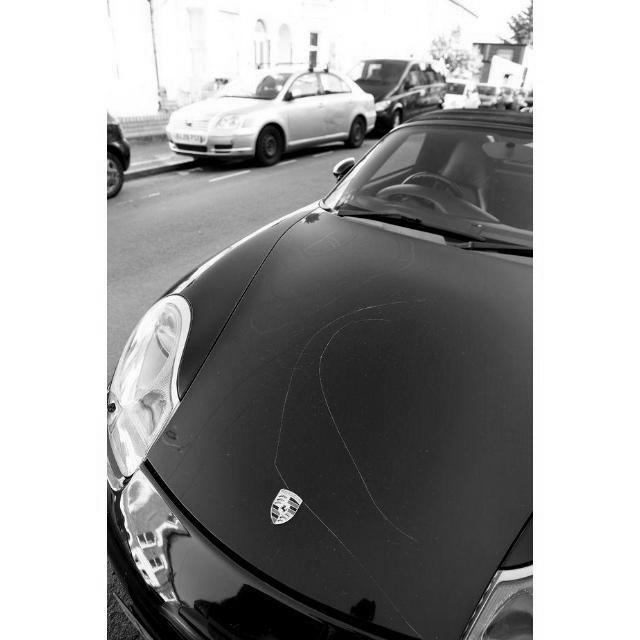bonnet-dent: (147, 226, 507, 594)
